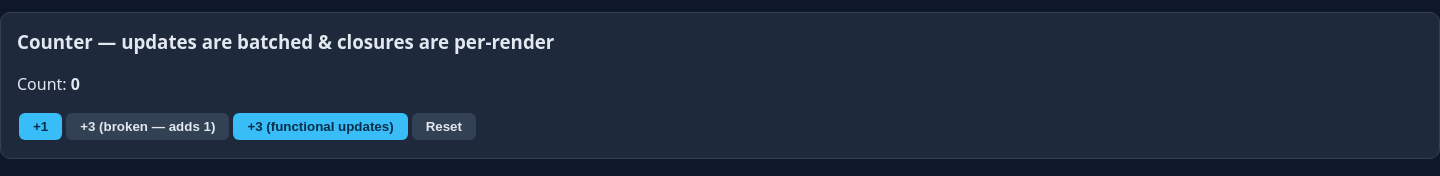
Test: Counter (concept 03) › functional updates make +3 actually add 3
Click the button "+3 (functional updates)": (321, 126) [233,113,408,140]
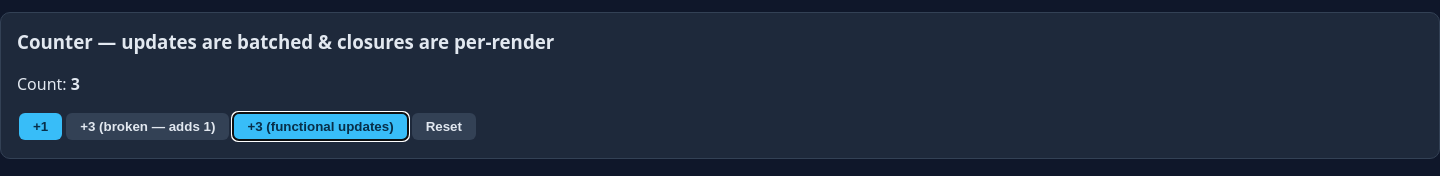
Expected: the text with test id "count" reads "3", [71,73,80,95]
